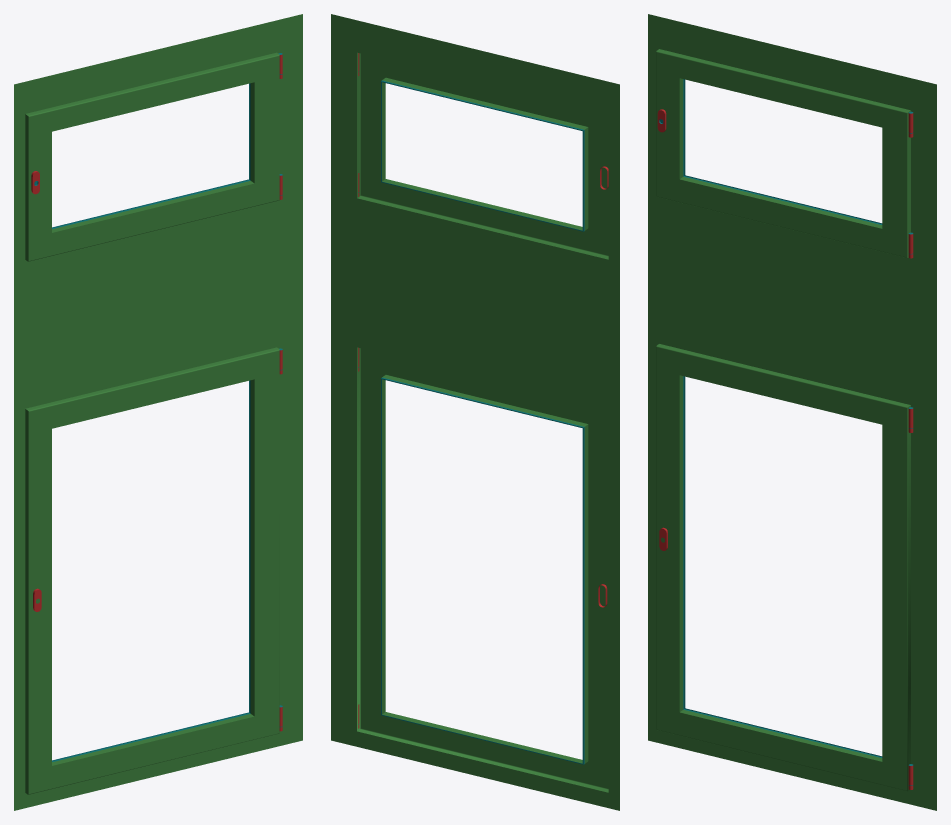
Rendered from SM_Window_03.fbx.
The picture shows the model from 3 angles, left to right: view 1: azimuth 30°, elevation 25°; view 2: azimuth 150°, elevation 25°; view 3: azimuth 330°, elevation 25°; orthographic projection.
Visible parts, largest first — view 1: SM_Window_03; view 2: SM_Window_03; view 3: SM_Window_03.
Boxes of the visible parts, bbox=[...] form: SM_Window_03: bbox=[14, 14, 302, 810]; SM_Window_03: bbox=[331, 14, 619, 810]; SM_Window_03: bbox=[648, 14, 936, 810].
Bounding box in the file's own units: 105 × 252 × 3.85.
